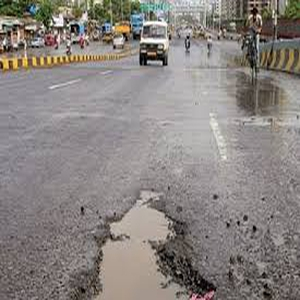pothole: (92, 188, 211, 300)
